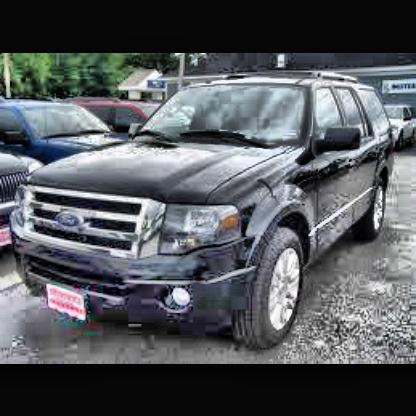Ford Expedition EL SUV 2009: (15, 77, 395, 351)
